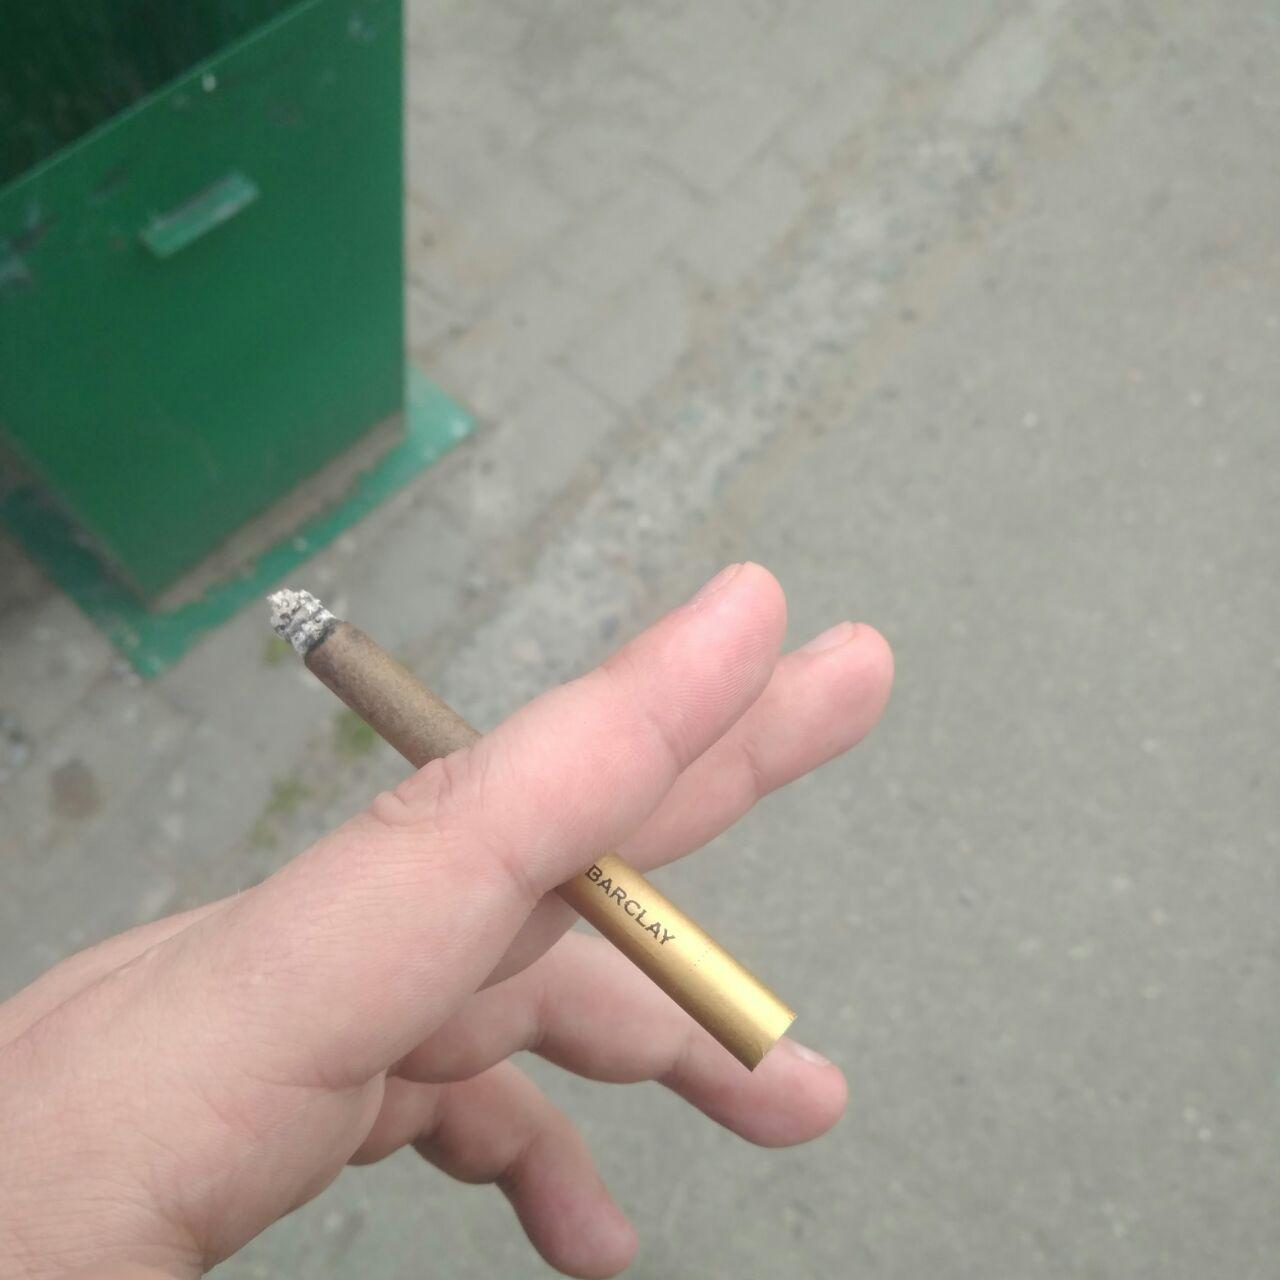cigarette: (266, 588, 798, 1072)
